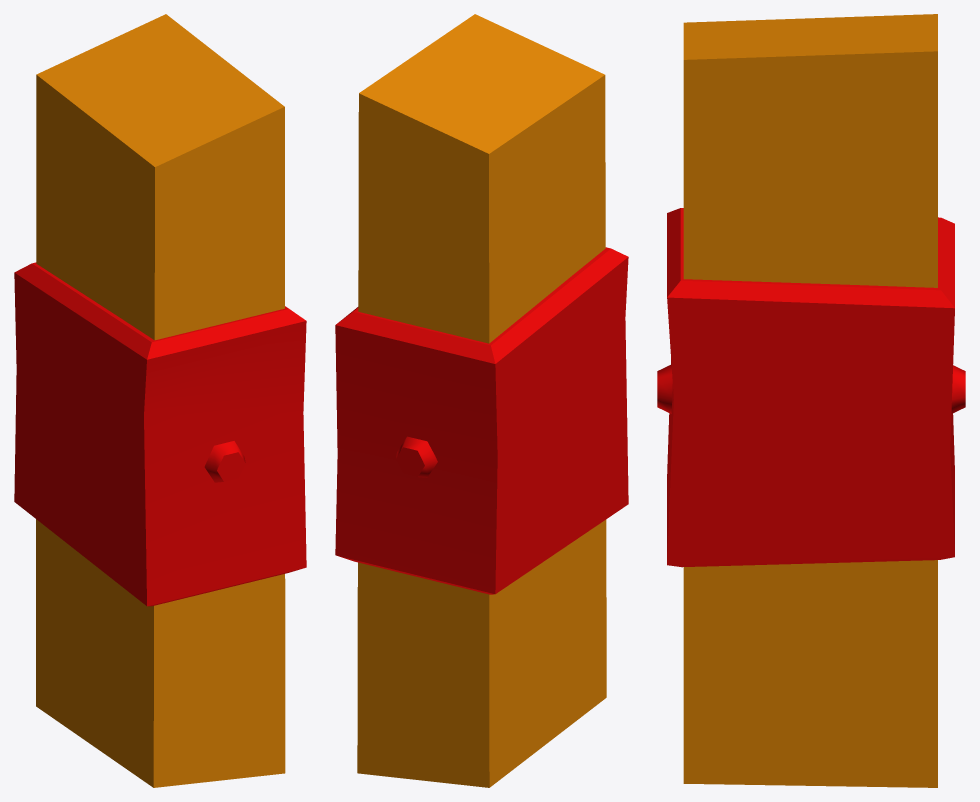
File: Wall_Lamp_3.fbx
3 renders of one model, left to right at view 1: azimuth 30°, elevation 25°; view 2: azimuth 150°, elevation 25°; view 3: azimuth 270°, elevation 25°, orthographic. The views are drawn at different scales.
Visible parts, largest first — view 1: Wall_Lamp_3; view 2: Wall_Lamp_3; view 3: Wall_Lamp_3.
Boxes of the visible parts, x1,y1,x2,y2 form: Wall_Lamp_3: (14, 14, 306, 787); Wall_Lamp_3: (335, 14, 628, 787); Wall_Lamp_3: (657, 14, 965, 787).
Size of the model in its own units: 13.78 by 55.98 by 21.25.
